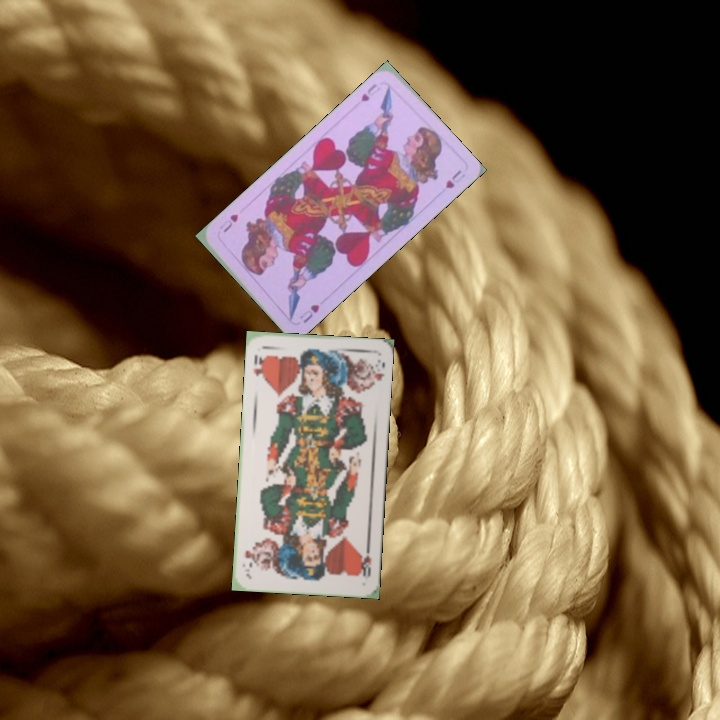HO: (356, 541, 374, 579), (249, 350, 268, 384)
HU: (295, 300, 322, 326), (356, 80, 383, 104)
